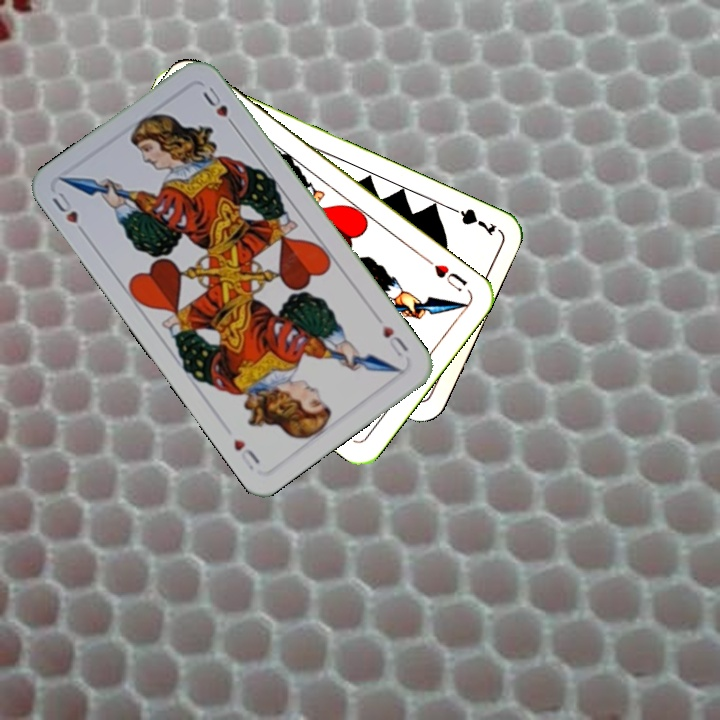G7: (443, 201, 499, 239)
HU: (47, 188, 90, 240), (421, 254, 470, 294), (378, 321, 412, 362)
